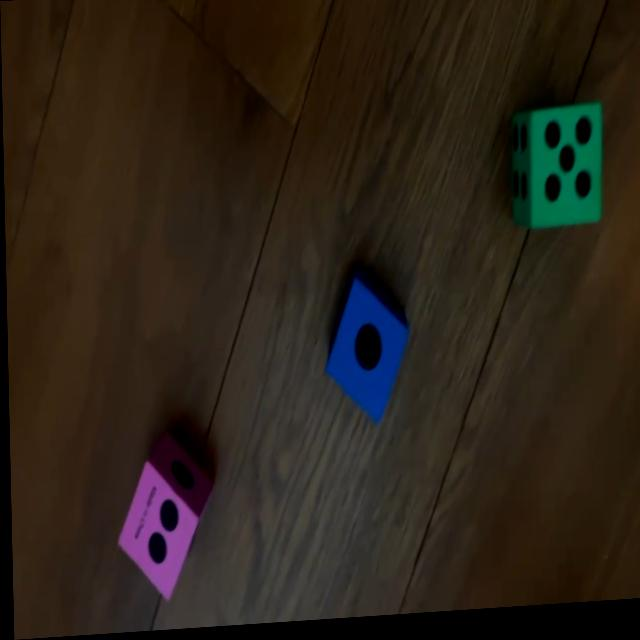cube: (322, 269, 409, 432), (508, 108, 603, 237)
